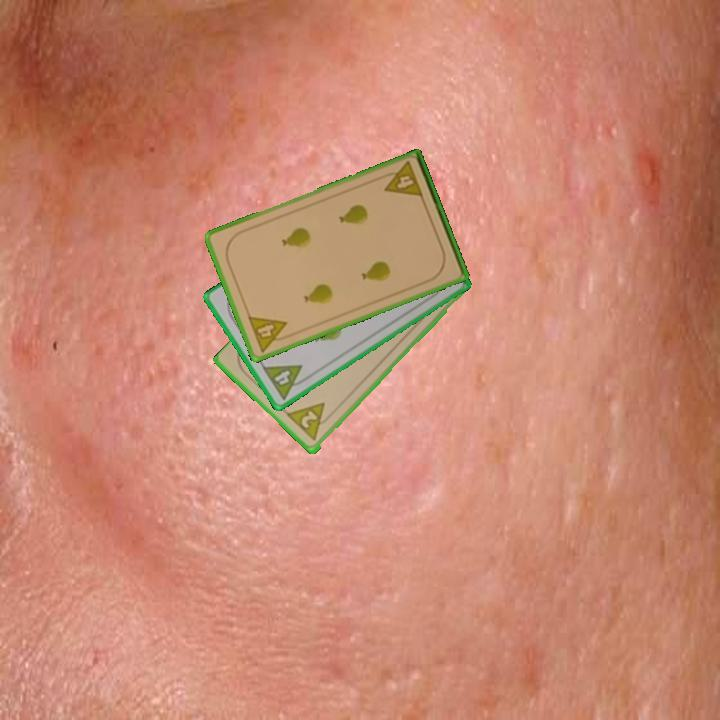2p: (284, 399, 336, 445)
4p: (259, 361, 312, 403), (244, 312, 294, 355), (377, 158, 426, 201)
